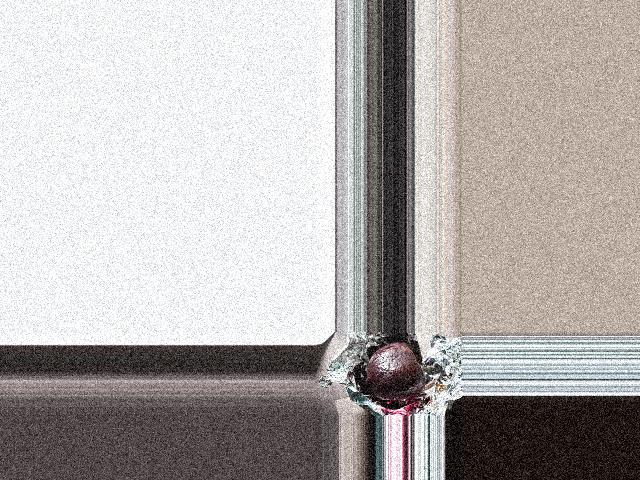beet: (365, 342, 426, 398)
